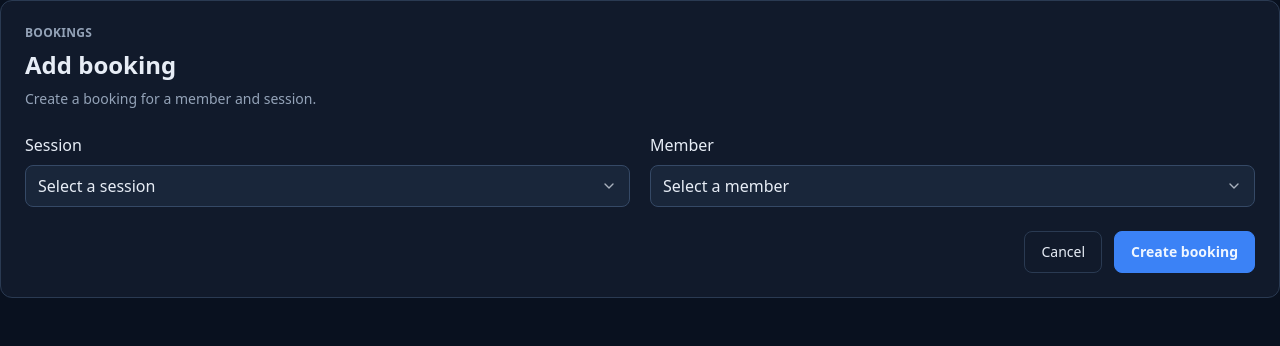
CreateBookingForm › renders booking fields, session options, member options, and empty defaults
Expected: the heading "Add booking" is shown, [25,48,176,81]
Click the button with aria-label "session:": (97, 186) [25,165,630,207]
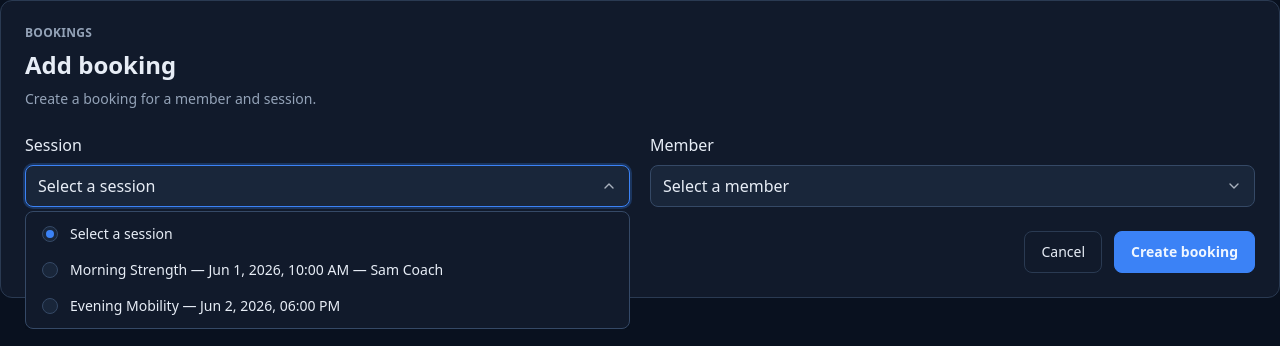
Expected: the radio button with aria-label "session: select a session" is shown, [42,224,173,243]
Expected: the radio button labelled "Morning Strength — Jun 1, 2026, 10:00 AM — Sam Coach" is shown, [42,260,443,279]
Expected: the radio button with aria-label "session: evening mobility" is shown, [42,296,340,315]
Click the button with aria-label "member:": (726, 186) [650,165,1255,207]
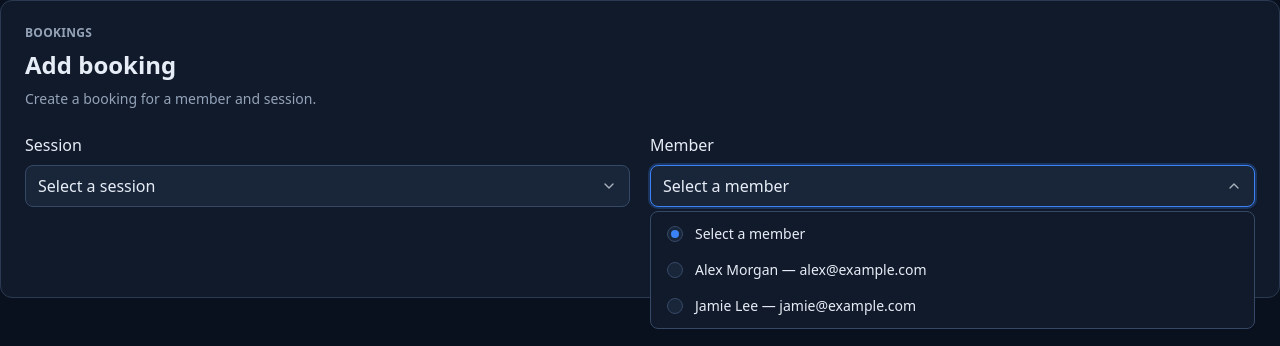
Expected: the radio button with aria-label "member: select a member" is shown, [667,224,805,243]
Expected: the radio button labelled "Alex Morgan — alex@example.com" is shown, [667,260,927,279]
Expected: the radio button with aria-label "member: jamie lee" is shown, [667,296,916,315]
